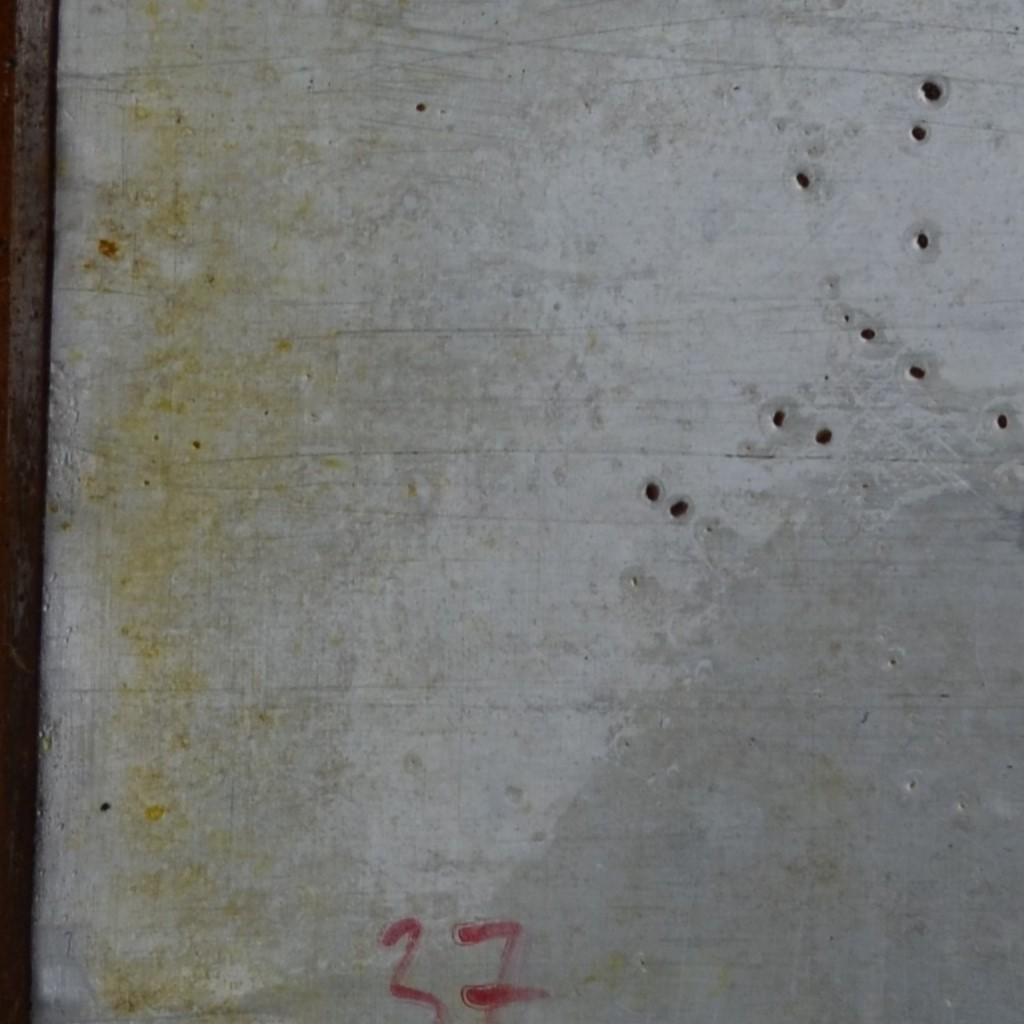varroa: (667, 496, 690, 523), (921, 74, 942, 102), (643, 479, 661, 506), (814, 423, 836, 445), (769, 405, 786, 433), (794, 167, 812, 193), (908, 123, 927, 144), (908, 361, 927, 382), (994, 408, 1010, 431), (859, 325, 878, 344)
